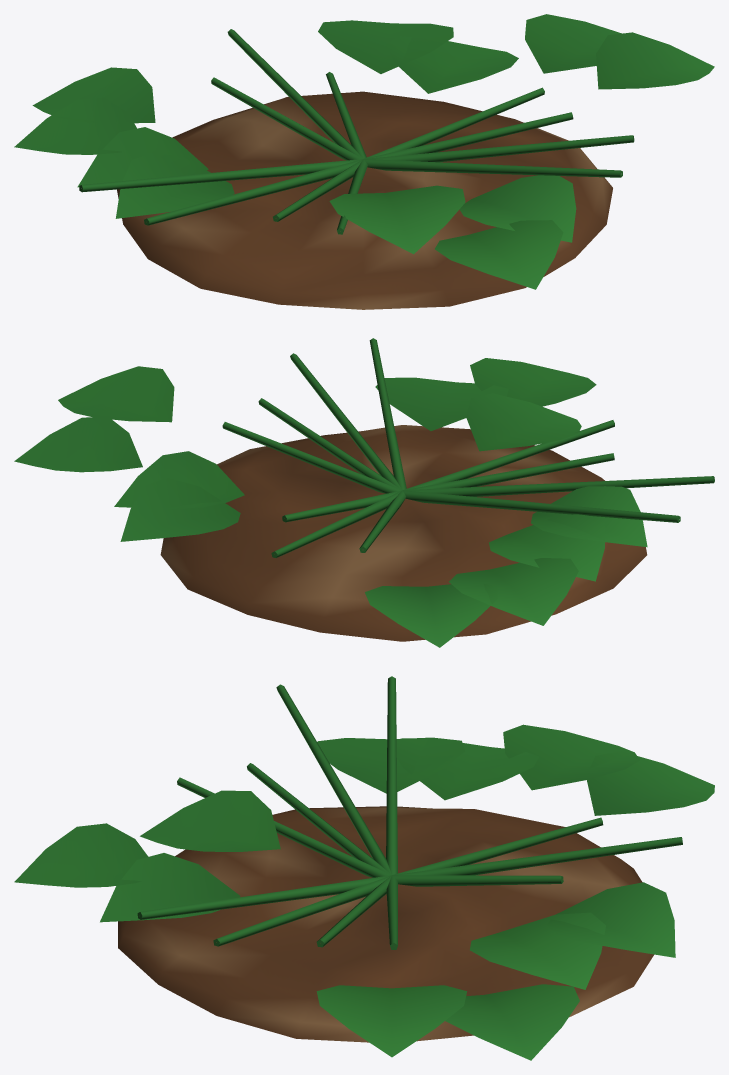
Rendered from plant-watermelon-4.gltf.
3 views of the same model, one above another, from view 1: azimuth 30°, elevation 25°; view 2: azimuth 150°, elevation 25°; view 3: azimuth 270°, elevation 25° (orthographic). The views are drawn at different scales.
Bounding box in the file's own units: 1.88 × 0.2566 × 1.63.
